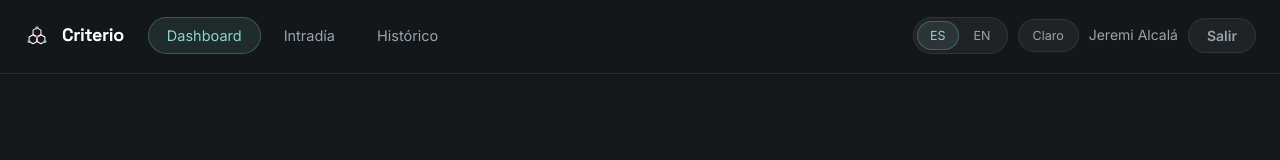
Test case: NavBar (ancha) › cambia el idioma de toda la barra
Click the button "EN": (982, 36) [961,21,1004,50]
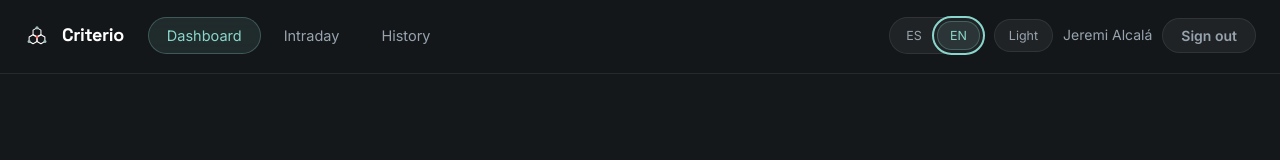
expect the tab "History" is shown: met, box [362,17,450,54]
